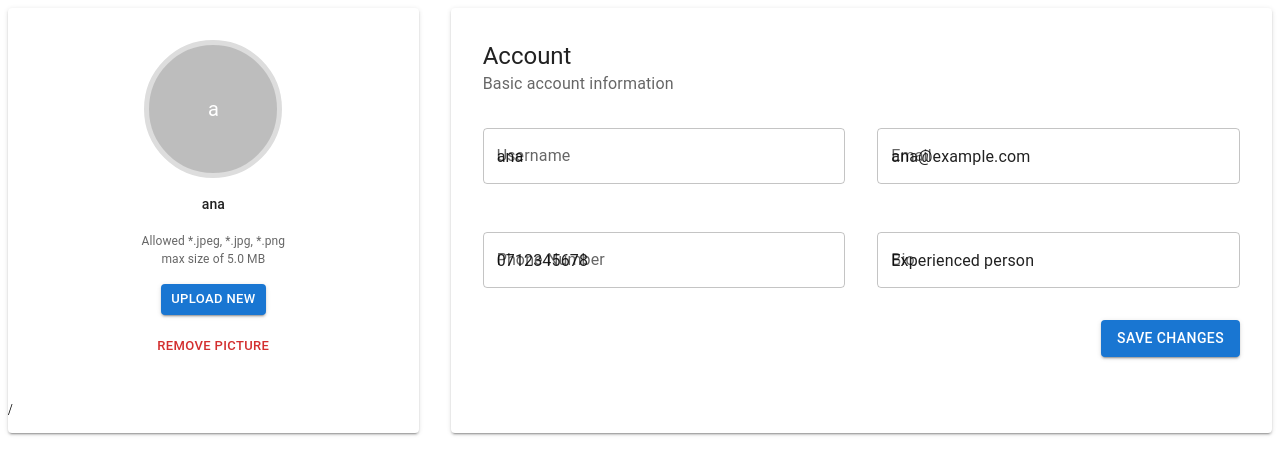
Test: <UserForm /> › requires Phone Number
Expected: the field labelled "Username" holds "ana", [483, 128, 845, 184]
Clear the field labelled "Phone Number" at (664, 260), box [483, 232, 845, 288]
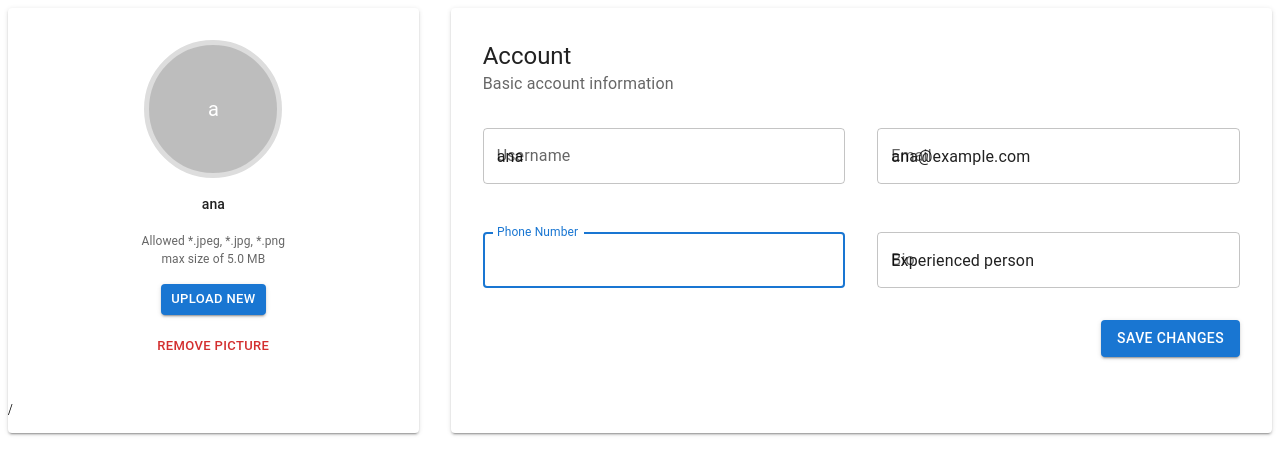
Press Tab
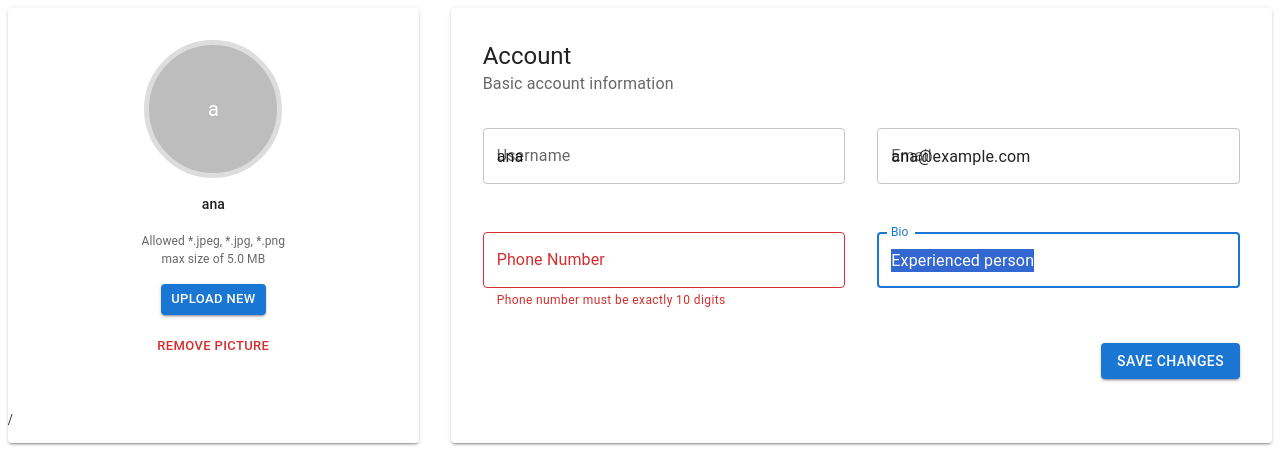
Expected: the text "Phone number must be exactly 10 digits" is shown, [497, 293, 726, 307]
